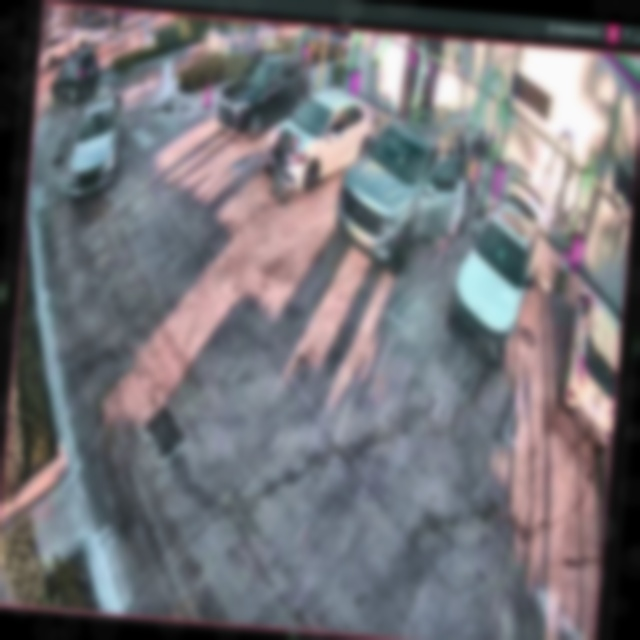Car: (335, 97, 477, 278), (447, 176, 546, 364), (260, 87, 378, 194)
